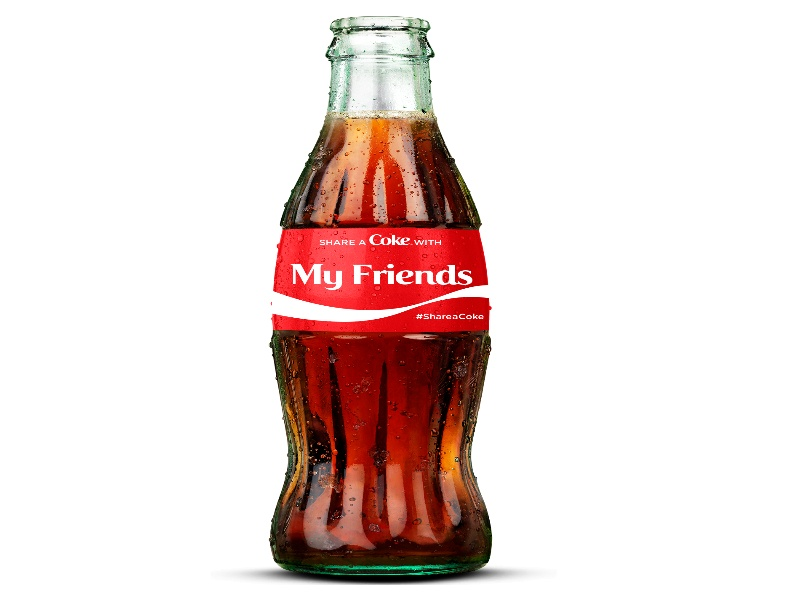Glass_bottle_Recyc: (197, 5, 578, 595)
